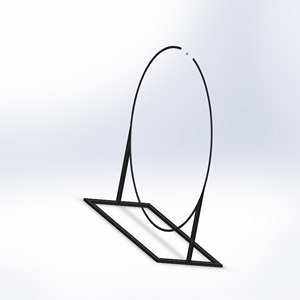circle: (81, 43, 225, 267)
